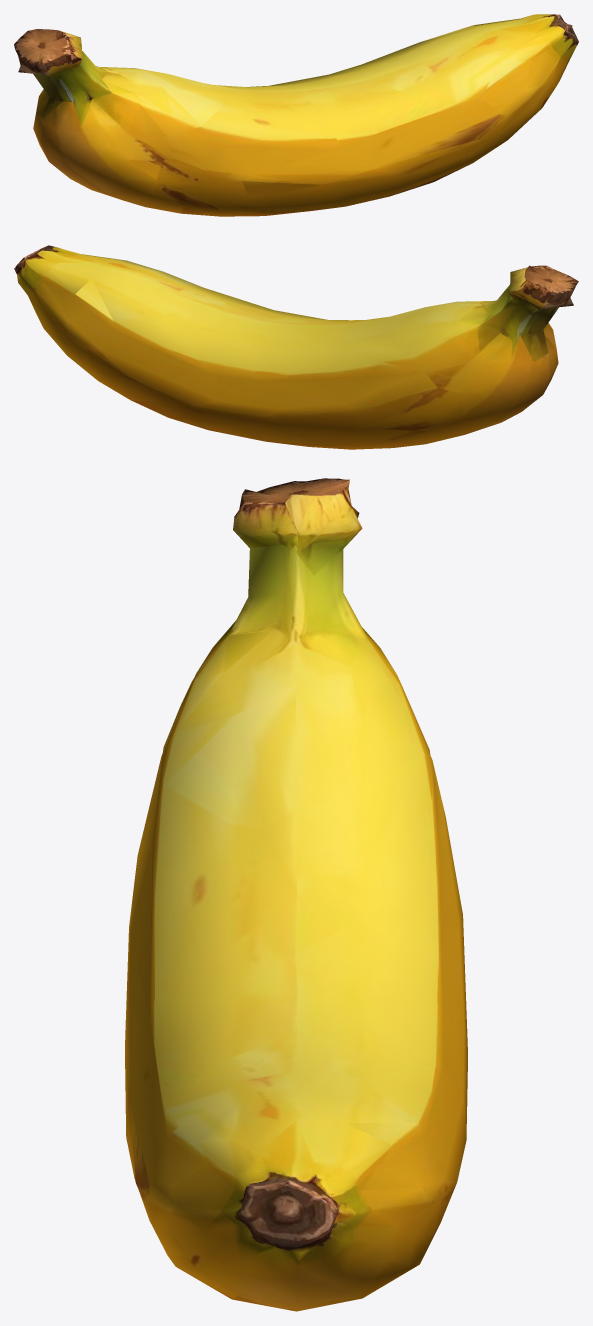
File: looseBanana.glb
3 views of the same model, one above another, from view 1: azimuth 30°, elevation 25°; view 2: azimuth 150°, elevation 25°; view 3: azimuth 270°, elevation 25° (orthographic). The views are drawn at different scales.
Visible parts, largest first — view 1: TripoBananaSingleMesh; view 2: TripoBananaSingleMesh; view 3: TripoBananaSingleMesh.
Boxes of the visible parts, x1,y1,x2,y2 form: TripoBananaSingleMesh: (14, 14, 578, 216); TripoBananaSingleMesh: (14, 245, 578, 449); TripoBananaSingleMesh: (125, 478, 467, 1311).
Size of the model in its own units: 0.56 by 0.22 by 0.15.
Materials: 1 (1 with a texture image).
